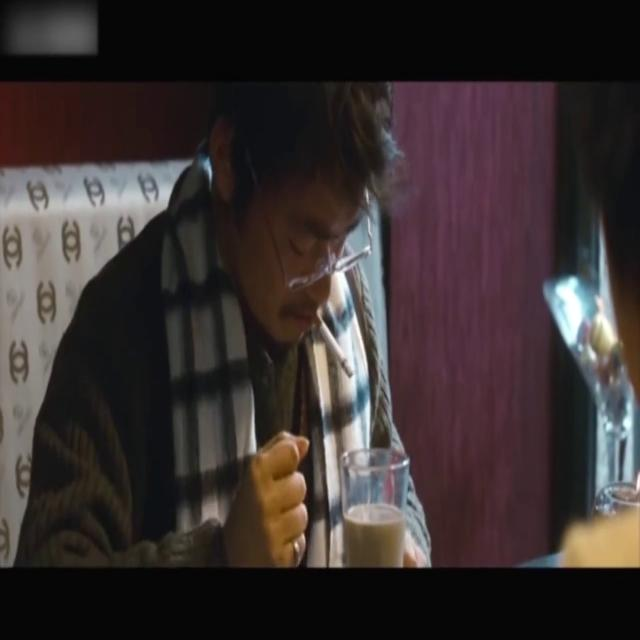smoke: (316, 312, 354, 380)
